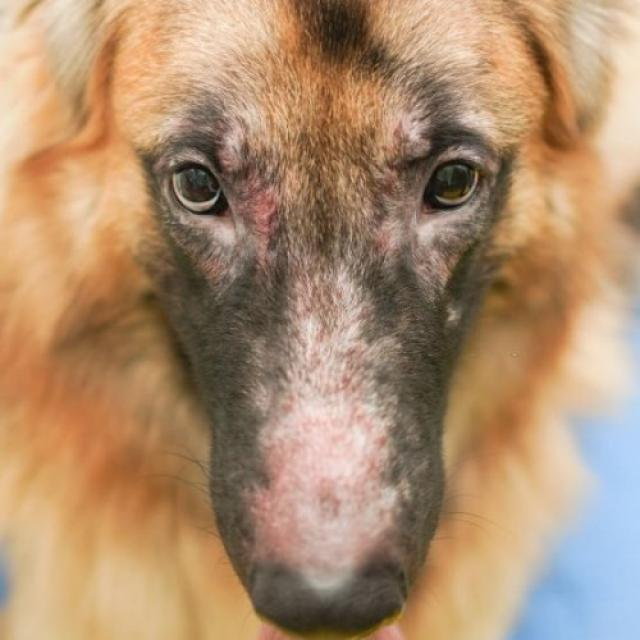allergic dermatitis: (254, 271, 410, 584), (363, 102, 418, 285), (229, 129, 273, 265)
